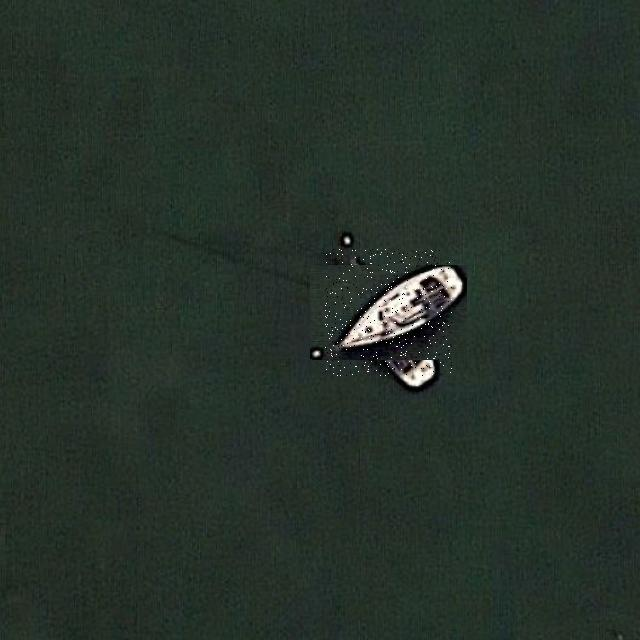boat: (325, 249, 452, 376)
